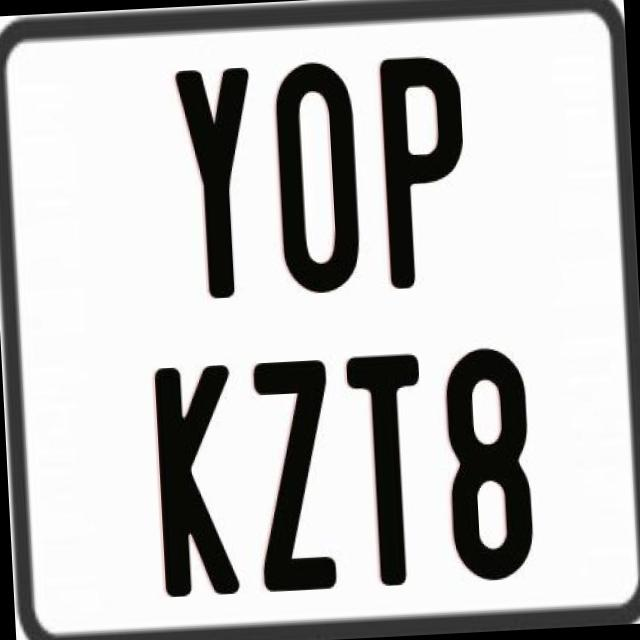0: (270, 60, 366, 298)
8: (442, 346, 541, 590)
K: (154, 364, 244, 607)
P: (380, 54, 476, 290)
T: (344, 350, 436, 586)
Y: (170, 64, 262, 296)
Z: (252, 358, 338, 591)
